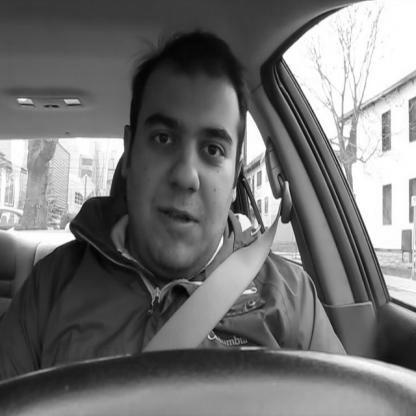seatbelt: (113, 25, 300, 416)
